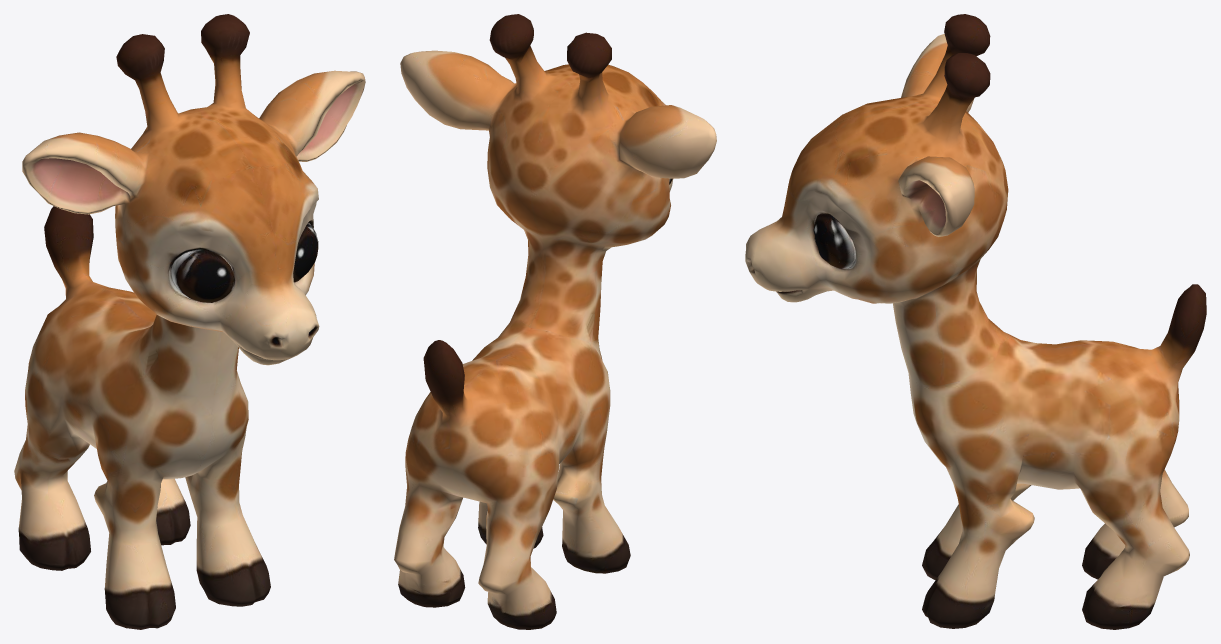
The model's file is toy-giraffe.glb.
3 renders of one model, left to right at view 1: azimuth 30°, elevation 25°; view 2: azimuth 150°, elevation 25°; view 3: azimuth 270°, elevation 25°, orthographic. The views are drawn at different scales.
Parts seen in each view (by area): view 1: Prize_Batch0; view 2: Prize_Batch0; view 3: Prize_Batch0.
Part boxes in pixels (bbox=[...]): Prize_Batch0: bbox=[14, 14, 365, 629]; Prize_Batch0: bbox=[394, 14, 716, 629]; Prize_Batch0: bbox=[745, 14, 1206, 629].
Bounding box in the file's own units: 0.0262 × 0.042 × 0.0316.
Materials: 1 (1 with a texture image).
